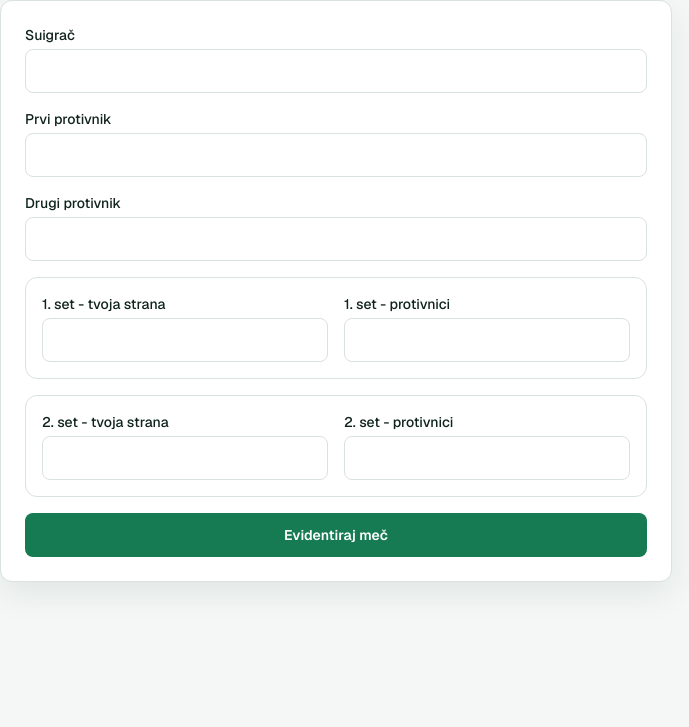
Test: RecordMatchForm › reveals the third set as soon as the first two stand at 1:1
In the field labelled "1. set - tvoja strana": (185, 340) [42,318,328,362], type "6"
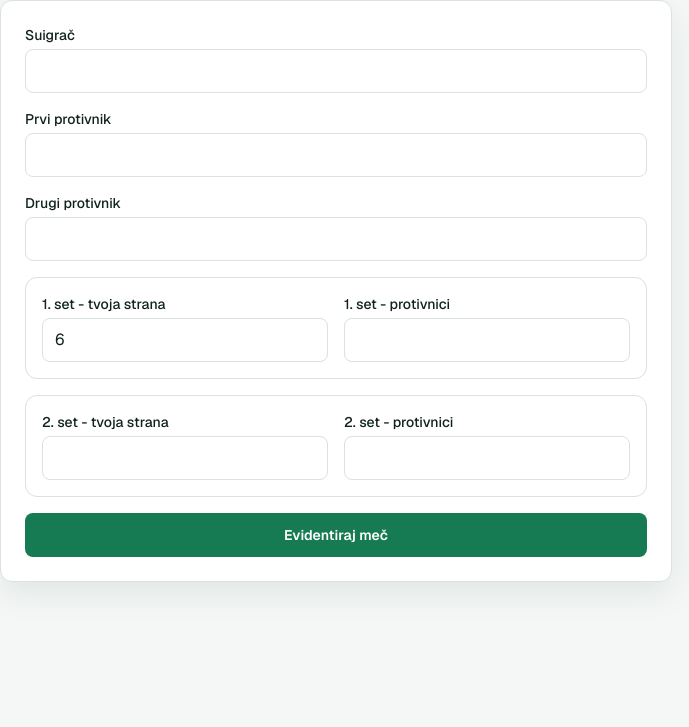
In the field labelled "1. set - protivnici": (487, 340) [344,318,630,362], type "4"
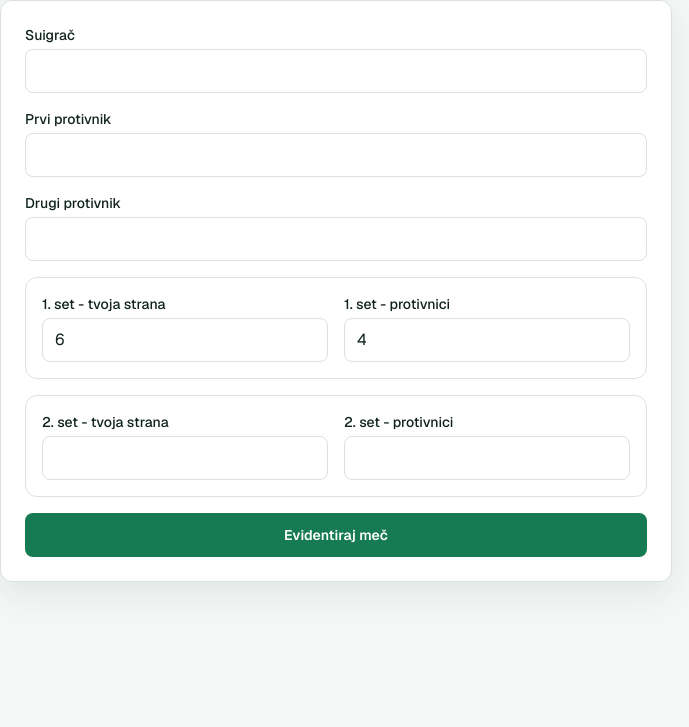
In the field labelled "2. set - tvoja strana": (185, 458) [42,436,328,480], type "3"
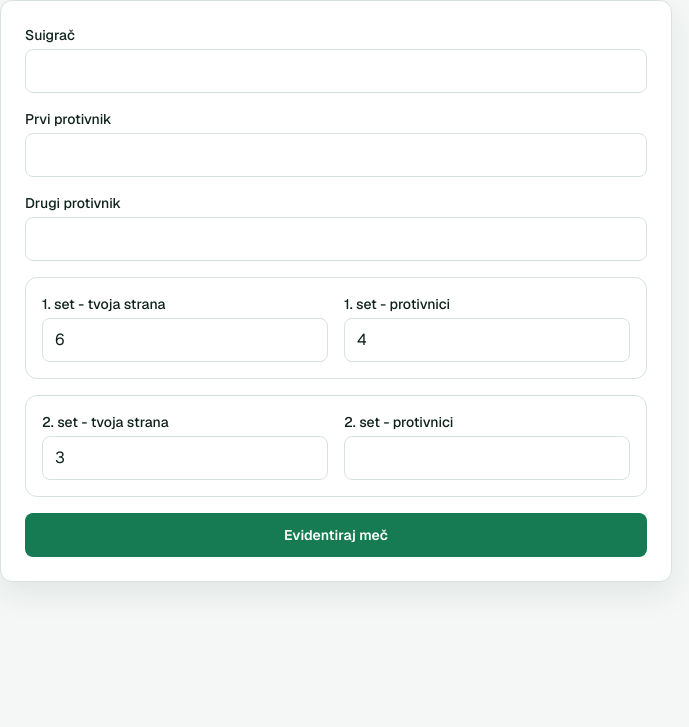
In the field labelled "2. set - protivnici": (487, 458) [344,436,630,480], type "6"
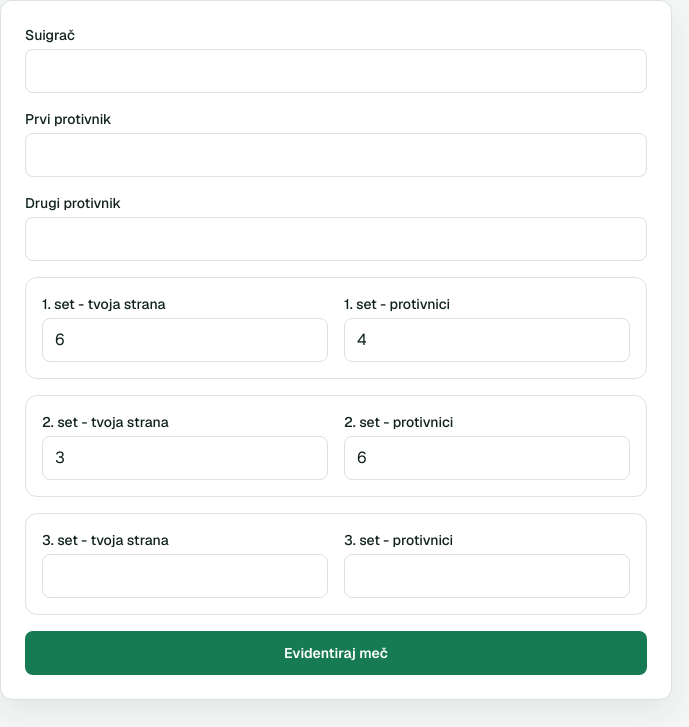
Now the element with test id "set-score-3" is shown, box [25,513,647,615]
Now the field labelled "3. set - tvoja strana" is shown, box [42,554,328,598]
